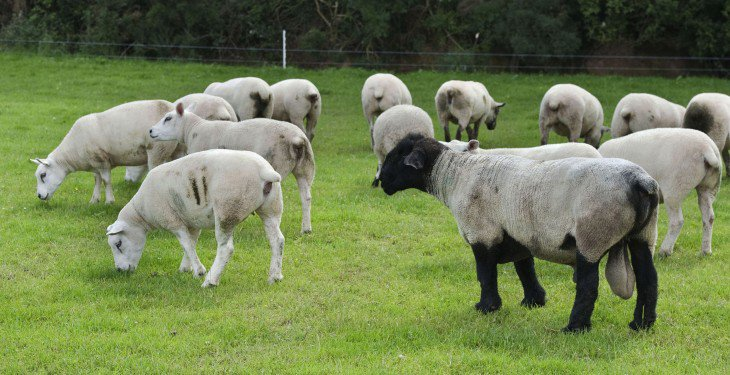sheep: (376, 139, 661, 331), (108, 149, 293, 291), (155, 104, 314, 240), (29, 92, 180, 199), (616, 129, 730, 250), (524, 80, 610, 157), (435, 81, 512, 148), (354, 71, 422, 141), (616, 93, 686, 155), (213, 71, 280, 130), (277, 80, 334, 140), (180, 84, 241, 135), (688, 93, 730, 150)
